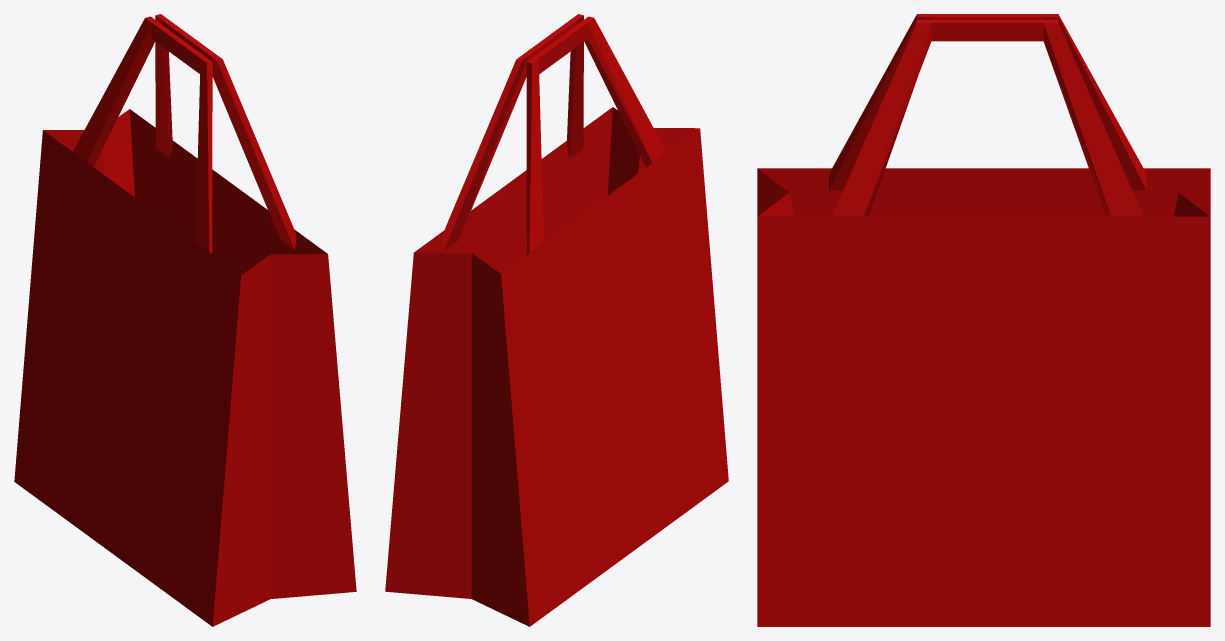
3 renders of one model, left to right at view 1: azimuth 30°, elevation 25°; view 2: azimuth 150°, elevation 25°; view 3: azimuth 270°, elevation 25°, orthographic. The views are drawn at different scales.
Parts seen in each view (by area): view 1: Object; view 2: Object; view 3: Object.
Boxes of the visible parts, x1=… form: Object: x1=14, y1=14, x2=356, y2=626; Object: x1=385, y1=14, x2=728, y2=626; Object: x1=757, y1=14, x2=1210, y2=626.
Bounding box in the file's own units: 16.52 × 54.47 × 39.39.
